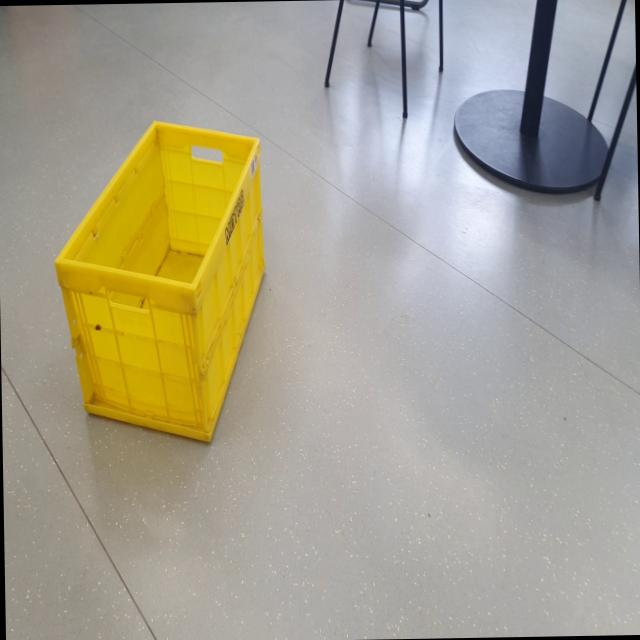box: (48, 108, 273, 459)
